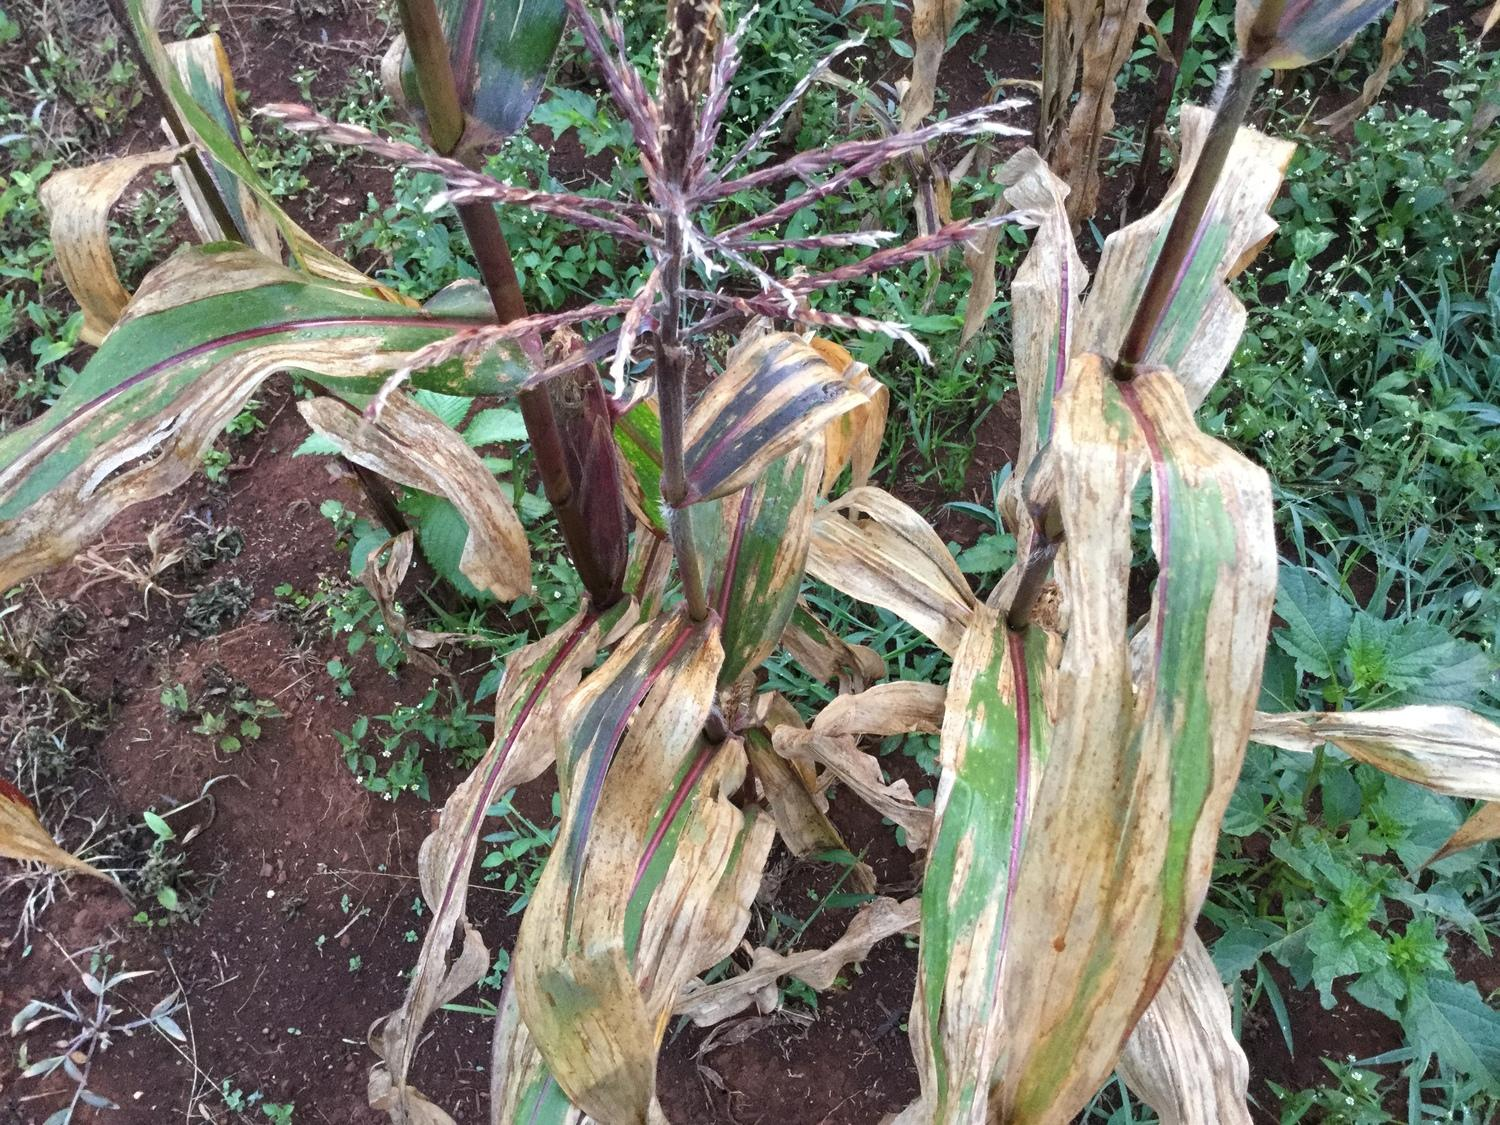Corn leaf blight: (978, 327, 1285, 1125), (1, 235, 516, 575), (345, 585, 620, 1125), (495, 619, 741, 1125), (684, 327, 883, 678)
